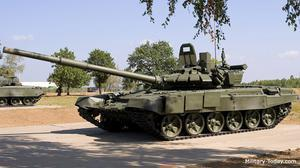t72: (4, 41, 291, 135)
